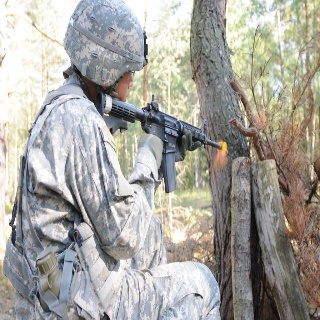rifle: (94, 87, 226, 192)
